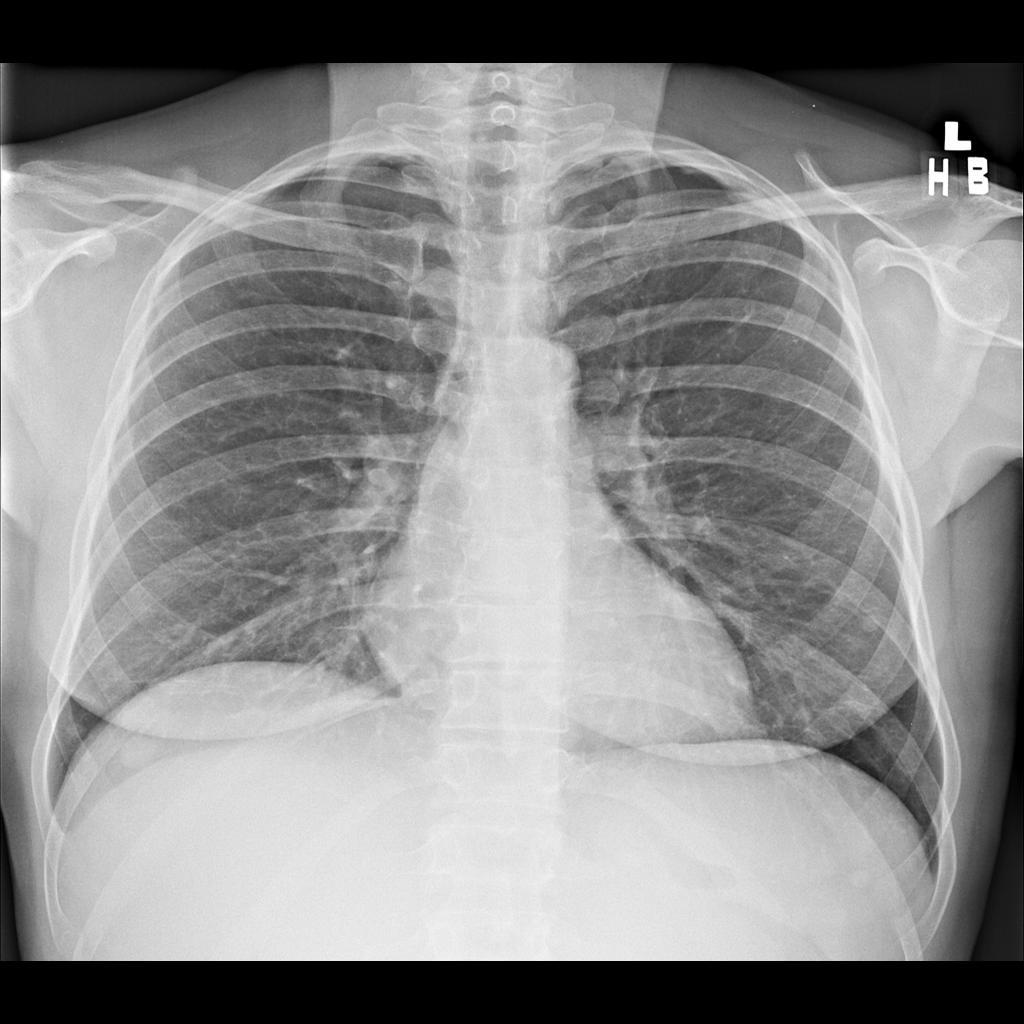Nodule: (858, 615, 887, 639)
